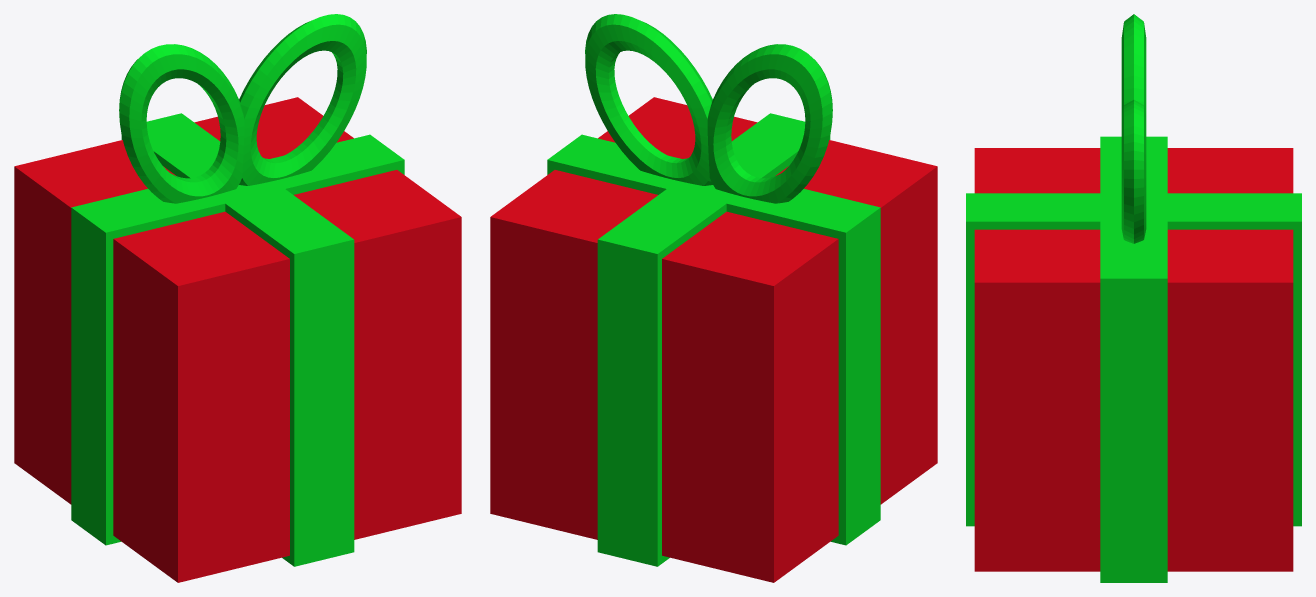
File: presR.fbx
3 views of the same model, side by side, from view 1: azimuth 30°, elevation 25°; view 2: azimuth 150°, elevation 25°; view 3: azimuth 270°, elevation 25° (orthographic). The views are drawn at different scales.
Visible parts, largest first — view 1: PresR; view 2: PresR; view 3: PresR.
Boxes of the visible parts, box(x1,y1,x2,y2) form: PresR: box(14, 14, 461, 582); PresR: box(490, 14, 937, 582); PresR: box(966, 14, 1301, 582).
Bounding box in the file's own units: 211 × 317 × 211.
